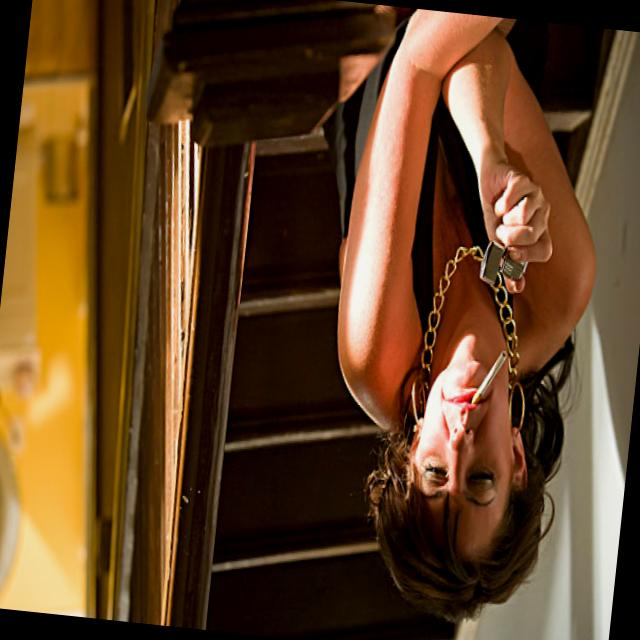cigarette: (468, 347, 506, 412)
